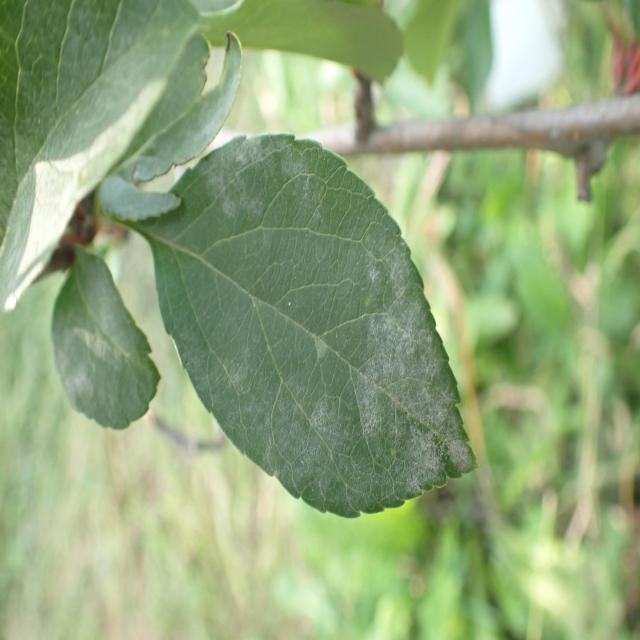Powdery_mildew: (165, 124, 473, 528)
